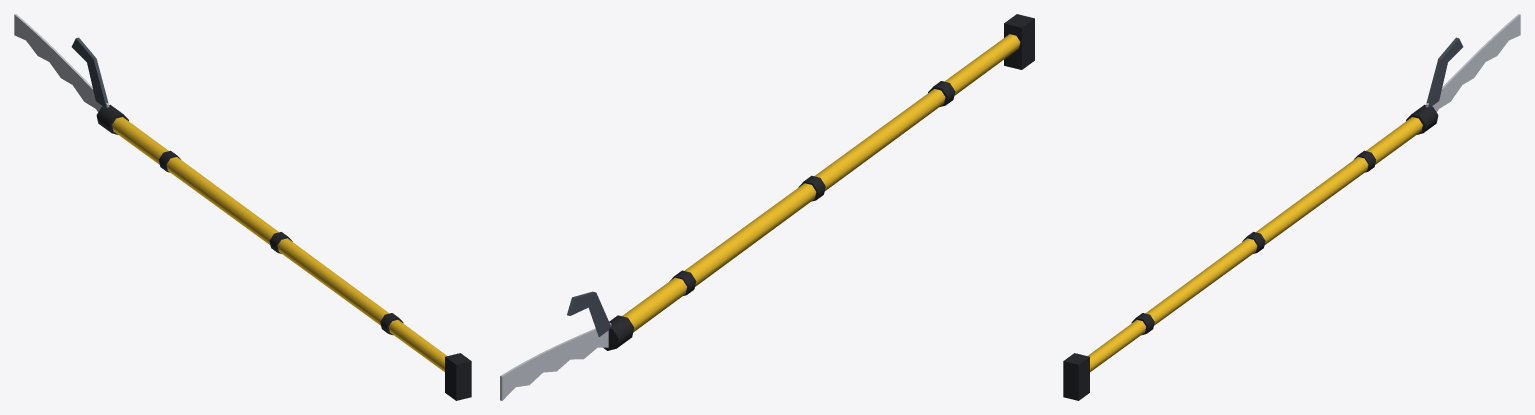
Rendered from tool_pole_saw.glb.
The picture shows the model from 3 angles, left to right: view 1: azimuth 30°, elevation 25°; view 2: azimuth 150°, elevation 25°; view 3: azimuth 330°, elevation 25°; orthographic projection. The views are drawn at different scales.
Parts seen in each view (by area): view 1: _MeshInstance3D_984, _MeshInstance3D_989, _MeshInstance3D_983, _MeshInstance3D_990, _MeshInstance3D_991; view 2: _MeshInstance3D_984, _MeshInstance3D_989, _MeshInstance3D_983, _MeshInstance3D_990, _MeshInstance3D_991; view 3: _MeshInstance3D_984, _MeshInstance3D_989, _MeshInstance3D_983, _MeshInstance3D_990, _MeshInstance3D_991.
Part boxes in pixels (x1,y1,x2,y2): _MeshInstance3D_984: [112, 117, 447, 371]; _MeshInstance3D_989: [14, 14, 109, 111]; _MeshInstance3D_983: [445, 353, 471, 400]; _MeshInstance3D_990: [71, 37, 108, 107]; _MeshInstance3D_991: [96, 104, 128, 134]; _MeshInstance3D_984: [622, 34, 1020, 332]; _MeshInstance3D_989: [500, 323, 611, 400]; _MeshInstance3D_983: [1004, 14, 1034, 69]; _MeshInstance3D_990: [567, 291, 611, 336]; _MeshInstance3D_991: [603, 315, 634, 350]; _MeshInstance3D_984: [1087, 117, 1422, 371]; _MeshInstance3D_989: [1425, 14, 1520, 111]; _MeshInstance3D_983: [1063, 353, 1089, 400]; _MeshInstance3D_990: [1426, 37, 1463, 107]; _MeshInstance3D_991: [1406, 104, 1438, 134].
Bounding box in the file's own units: 0.0507 × 0.195 × 2.03.
